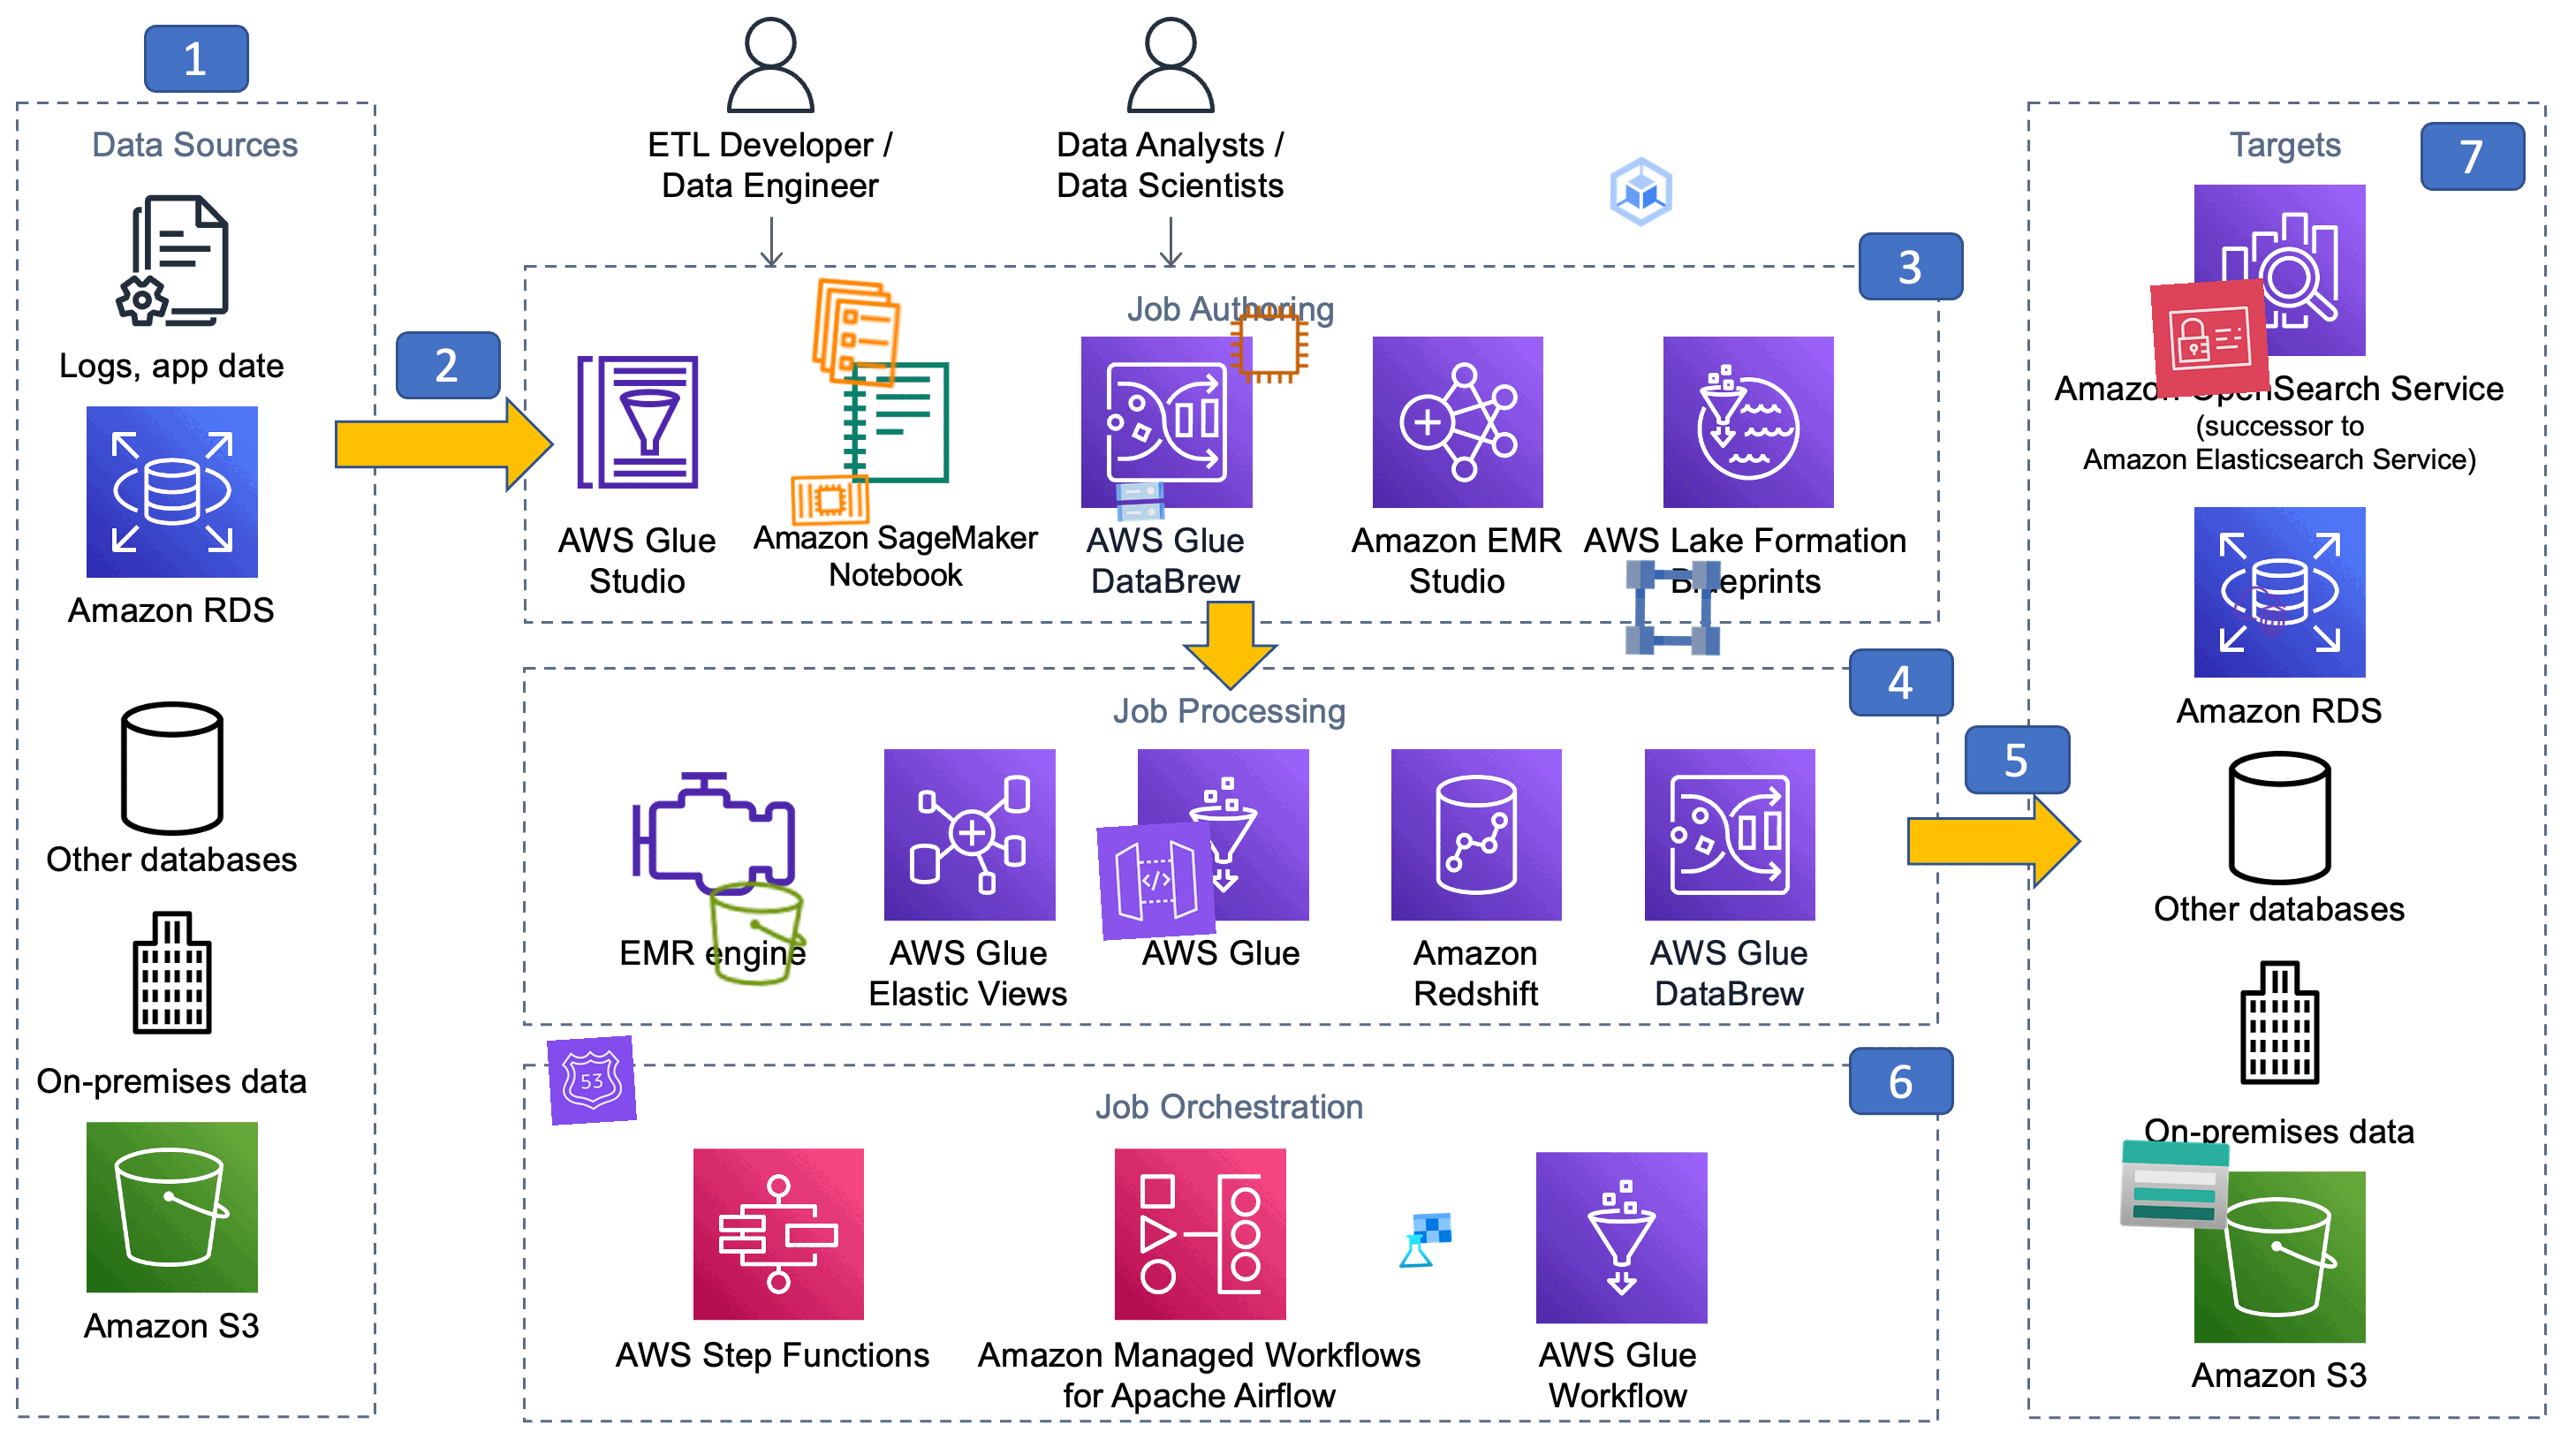aws_amazon_api_gateway: (1097, 821, 1217, 941)
aws_amazon_route_53: (547, 1035, 637, 1125)
aws_ec2_instance: (1226, 301, 1313, 387)
aws_elastic_container_service_container_2: (786, 456, 874, 545)
aws_elastic_container_service_service: (794, 271, 918, 394)
aws_identity_and_access_management: (2150, 278, 2270, 398)
aws_simple_storage_service_bucket: (697, 874, 817, 994)
aws_vpc_virtual_private_cloud_vpc: (2229, 580, 2291, 642)
azure_machine_learning_studio_workspaces: (1394, 1210, 1454, 1270)
azure_storage_accounts: (2116, 1125, 2235, 1244)
gcp_cloud_storage: (1111, 472, 1171, 532)
gcp_google_kubernetes_engine: (1598, 149, 1684, 235)
gcp_virtual_private_cloud: (1615, 550, 1730, 665)
